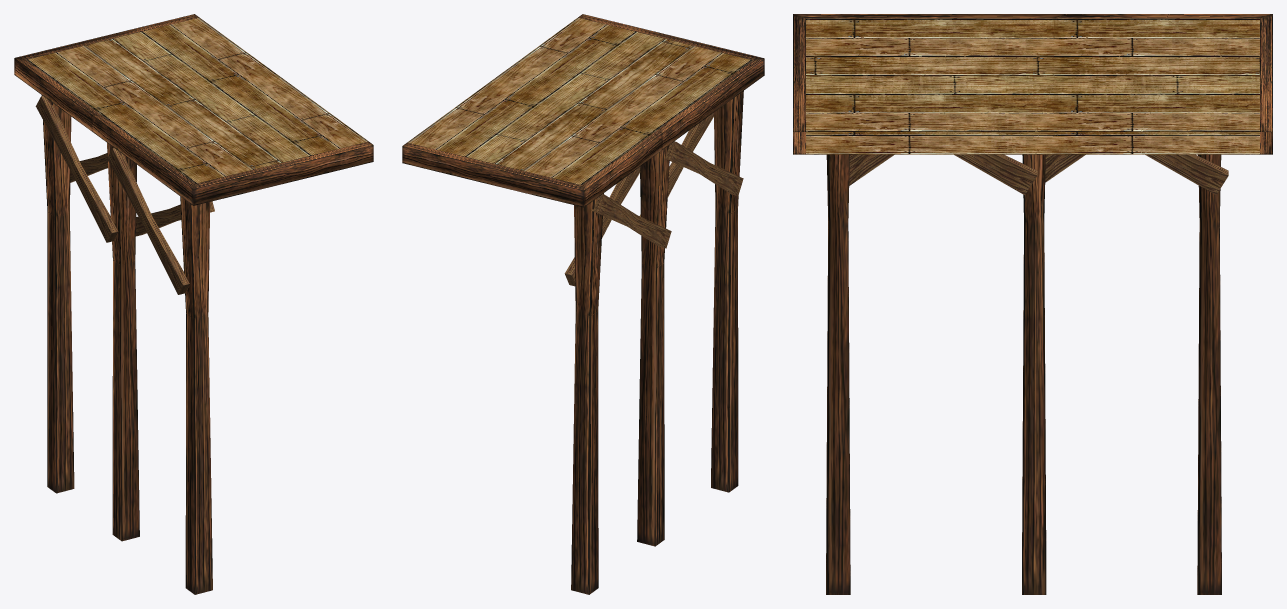
The model's file is LAKETOWN_WAREHOUSE2_PS_WH2_PIER488476__GX.fbx.
The picture shows the model from 3 angles, left to right: view 1: azimuth 30°, elevation 25°; view 2: azimuth 150°, elevation 25°; view 3: azimuth 270°, elevation 25°; orthographic projection. The views are drawn at different scales.
Visible parts, largest first — view 1: LAKETOWN_WAREHOUSE2_PS_WH2_PIER488476__GX; view 2: LAKETOWN_WAREHOUSE2_PS_WH2_PIER488476__GX; view 3: LAKETOWN_WAREHOUSE2_PS_WH2_PIER488476__GX.
Part boxes in pixels (box(x1,y1,x2,y2)): LAKETOWN_WAREHOUSE2_PS_WH2_PIER488476__GX: box(14, 14, 373, 594); LAKETOWN_WAREHOUSE2_PS_WH2_PIER488476__GX: box(402, 14, 764, 594); LAKETOWN_WAREHOUSE2_PS_WH2_PIER488476__GX: box(793, 14, 1272, 594).
Size of the model in its own units: 38395 by 85035 by 65990.
3 materials, 3 textured.
